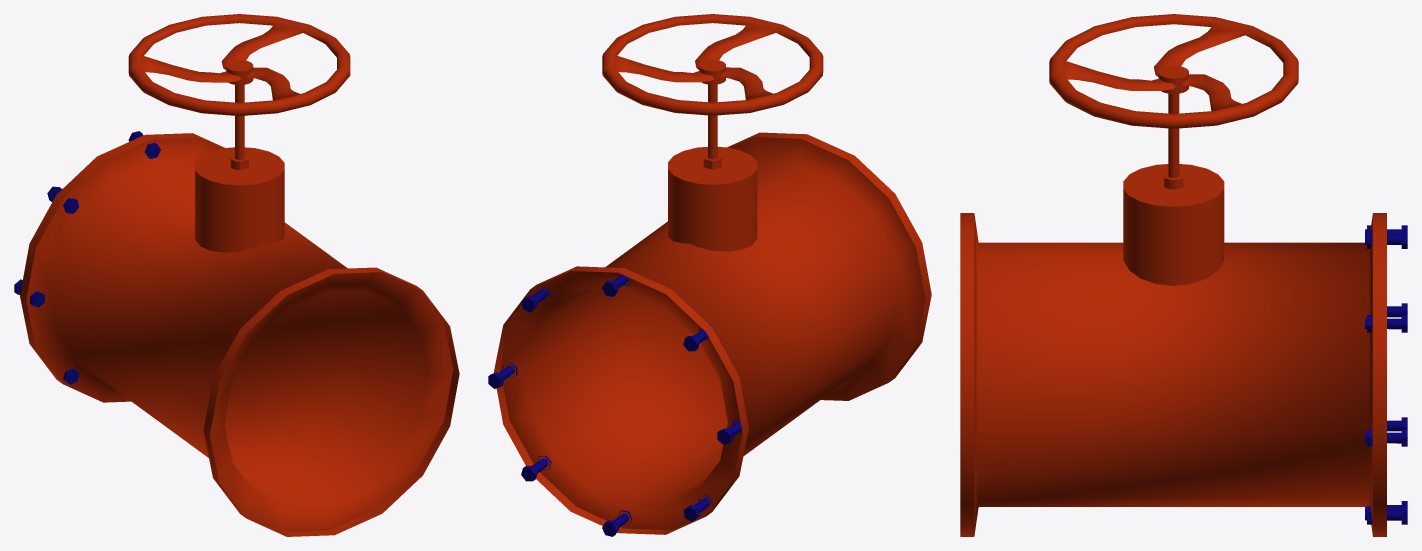
File: MSP_Valve02_BoltX8_02_LOD0.FBX
3 views of the same model, side by side, from view 1: azimuth 30°, elevation 25°; view 2: azimuth 150°, elevation 25°; view 3: azimuth 270°, elevation 25° (orthographic). The views are drawn at different scales.
Visible parts, largest first — view 1: PipeValve_up1_01_LOD0, Valve_02_LOD0, Bolt_02_LOD0; view 2: PipeValve_up1_01_LOD0, Valve_02_LOD0, Bolt_02_LOD0; view 3: PipeValve_up1_01_LOD0, Valve_02_LOD0, Bolt_02_LOD0.
Boxes of the visible parts, x1,y1,x2,y2 form: PipeValve_up1_01_LOD0: (20, 60, 459, 536); Valve_02_LOD0: (128, 14, 350, 115); Bolt_02_LOD0: (14, 131, 160, 384); PipeValve_up1_01_LOD0: (493, 59, 931, 534); Valve_02_LOD0: (602, 14, 823, 115); Bolt_02_LOD0: (488, 273, 747, 536); PipeValve_up1_01_LOD0: (960, 65, 1386, 536); Valve_02_LOD0: (1049, 14, 1298, 128); Bolt_02_LOD0: (1365, 225, 1407, 524).
Bounding box in the file's own units: 38 × 59.02 × 52.42.
